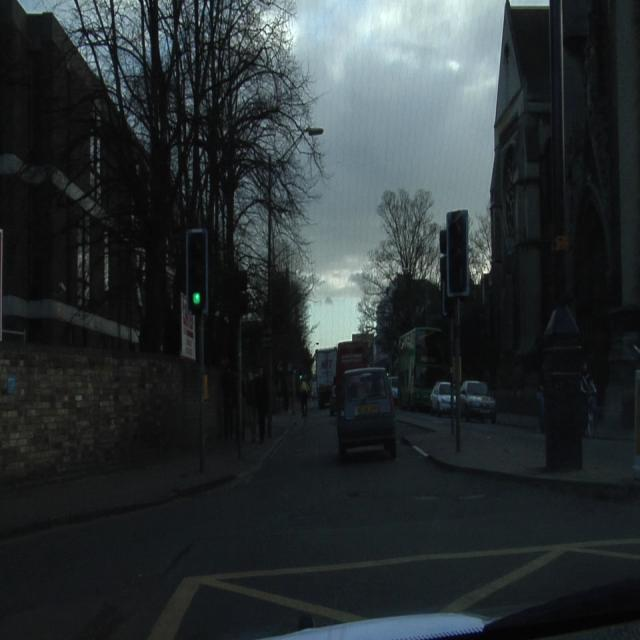Building: (485, 1, 639, 393)
Car: (337, 368, 396, 459), (460, 381, 495, 422), (431, 382, 452, 415)
Road: (2, 411, 639, 632)
Tree: (73, 3, 312, 362), (361, 189, 439, 361)
